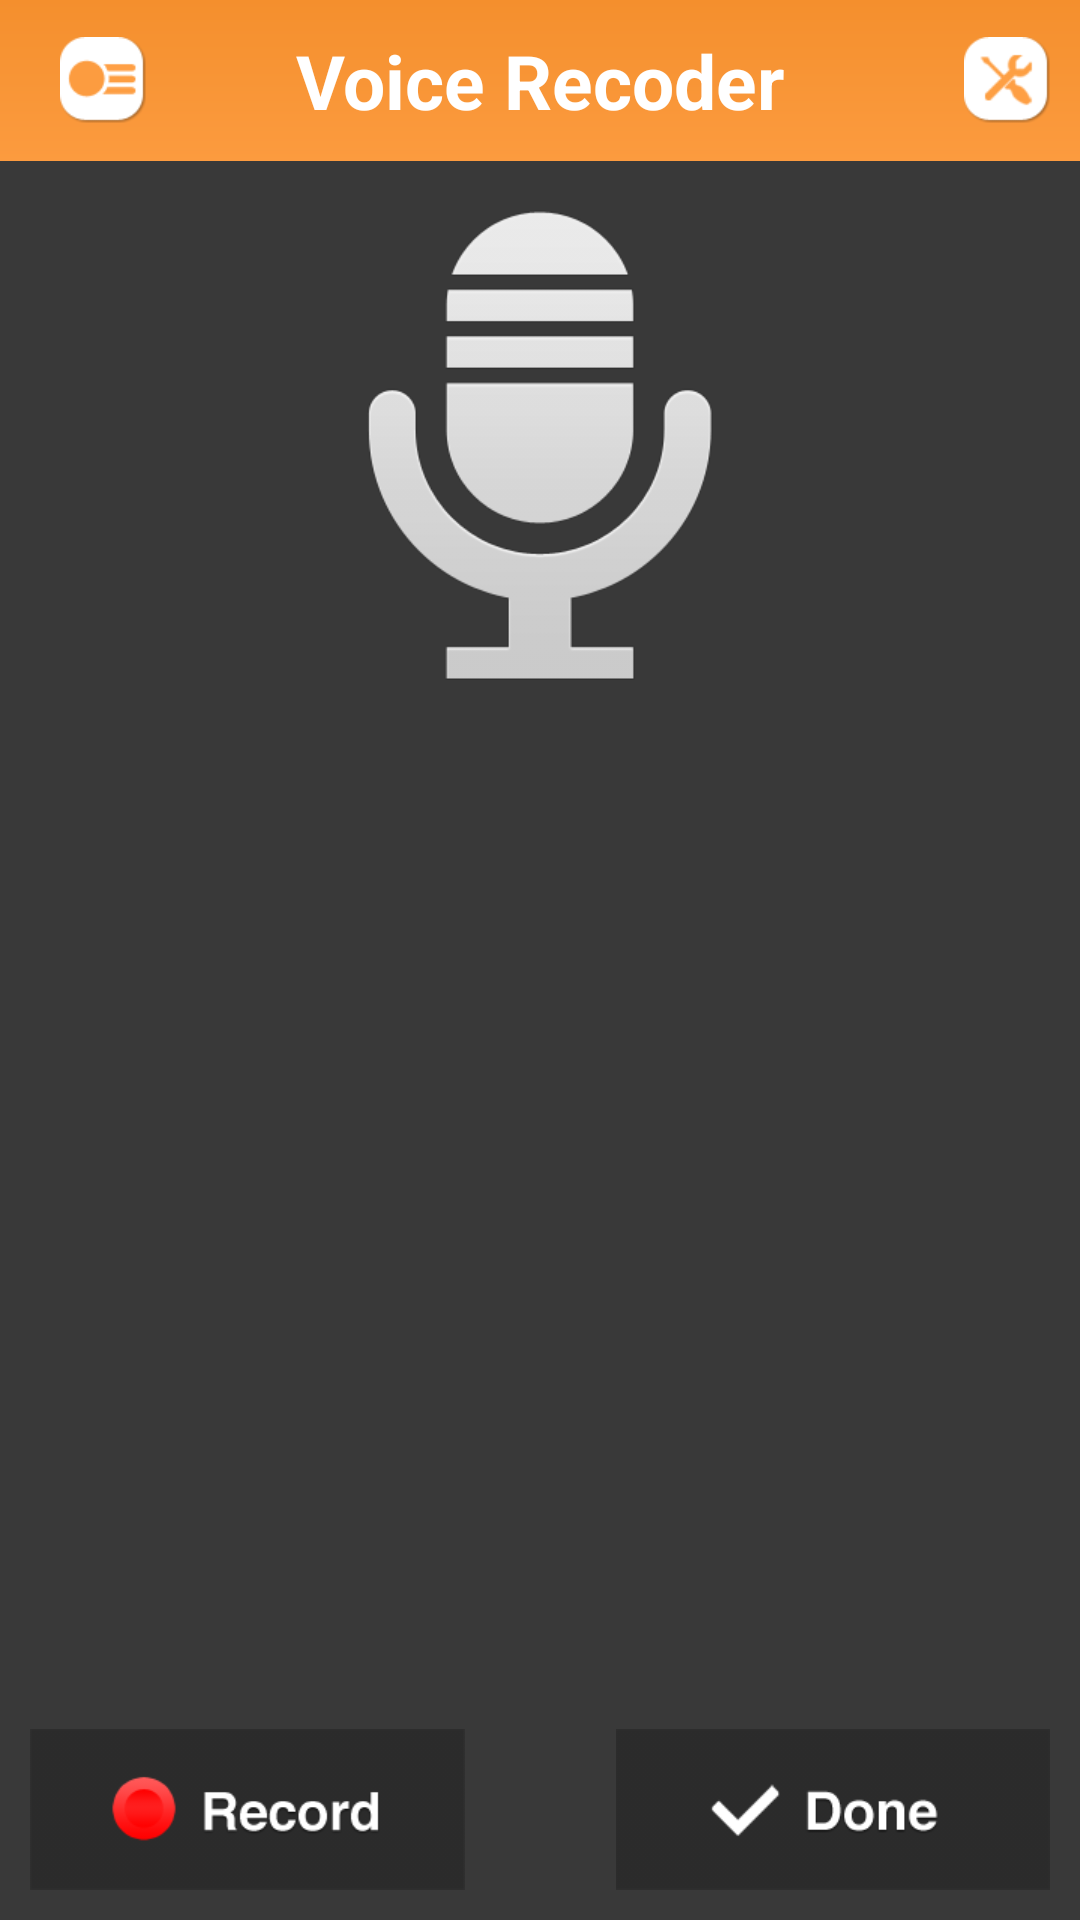

Point at icon controls on the screen. Image size 1080 × 1920, points as [x,y].
listview: [102,79]
settings: [1006,79]
